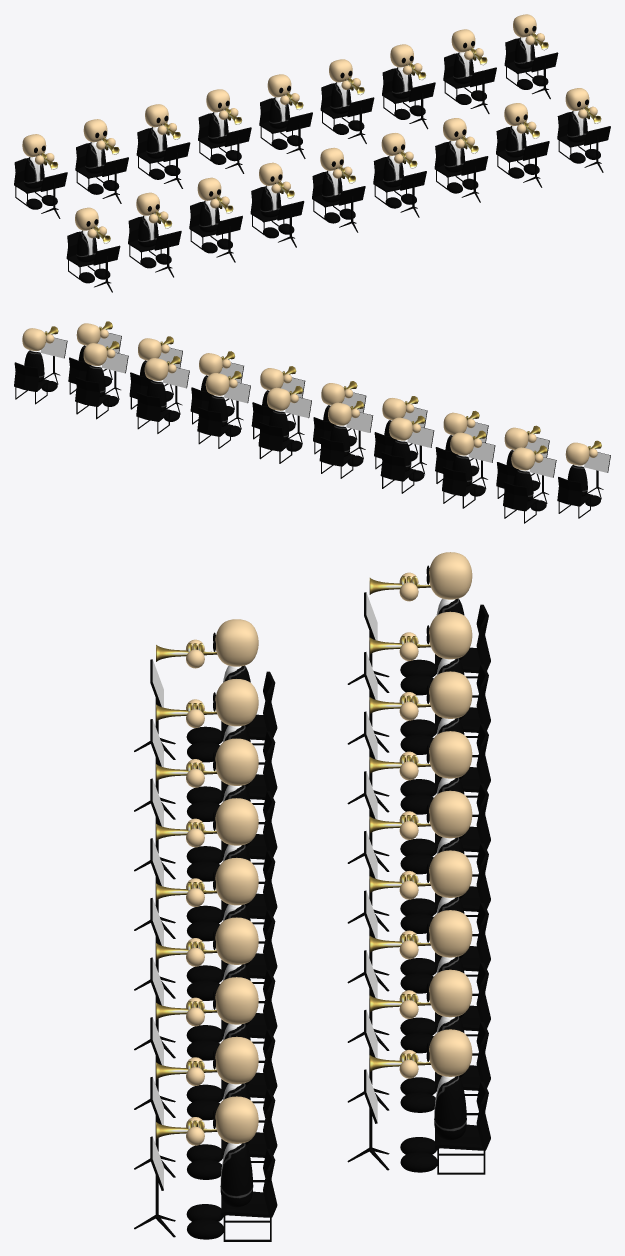
Rendered from trumpet.fbx.
3 renders of one model, top to bottom at view 1: azimuth 30°, elevation 25°; view 2: azimuth 150°, elevation 25°; view 3: azimuth 270°, elevation 25°, orthographic. The views are drawn at different scales.
Visible parts, largest first — view 1: trumpet.001; view 2: trumpet.001; view 3: trumpet.001.
Boxes of the visible parts, x1,y1,x2,y2 form: trumpet.001: (14,14,610,292); trumpet.001: (14,321,610,523); trumpet.001: (134,552,490,1241).
Bounding box in the file's own units: 1063 × 196 × 317.
